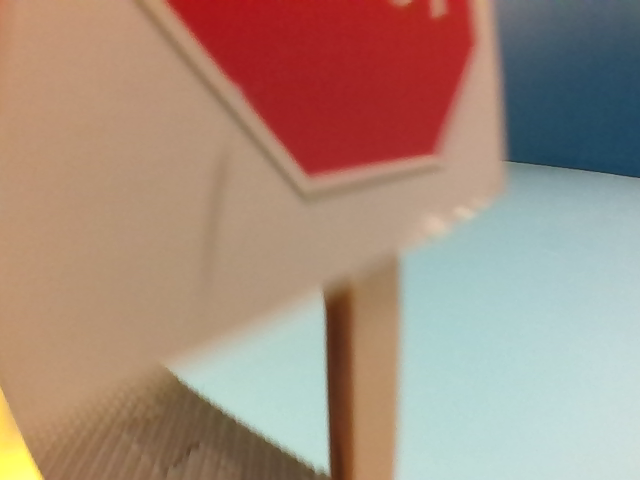stop: (4, 2, 506, 204)
